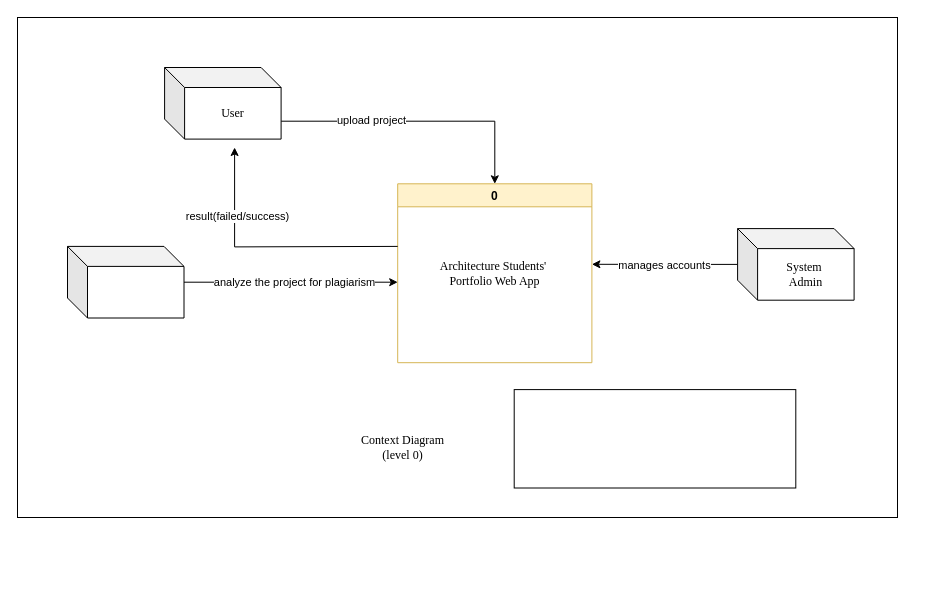
This 925x595 diagram has some shape labels left out. The shapes that lost their labels are listed below. From the top down, each one's centre as x and y in pixels, then its label:
At point (125, 281): "Project Detection System".
At point (654, 438): "User(Student,Teacher,Visitor,Collaborator) Admin Database".
